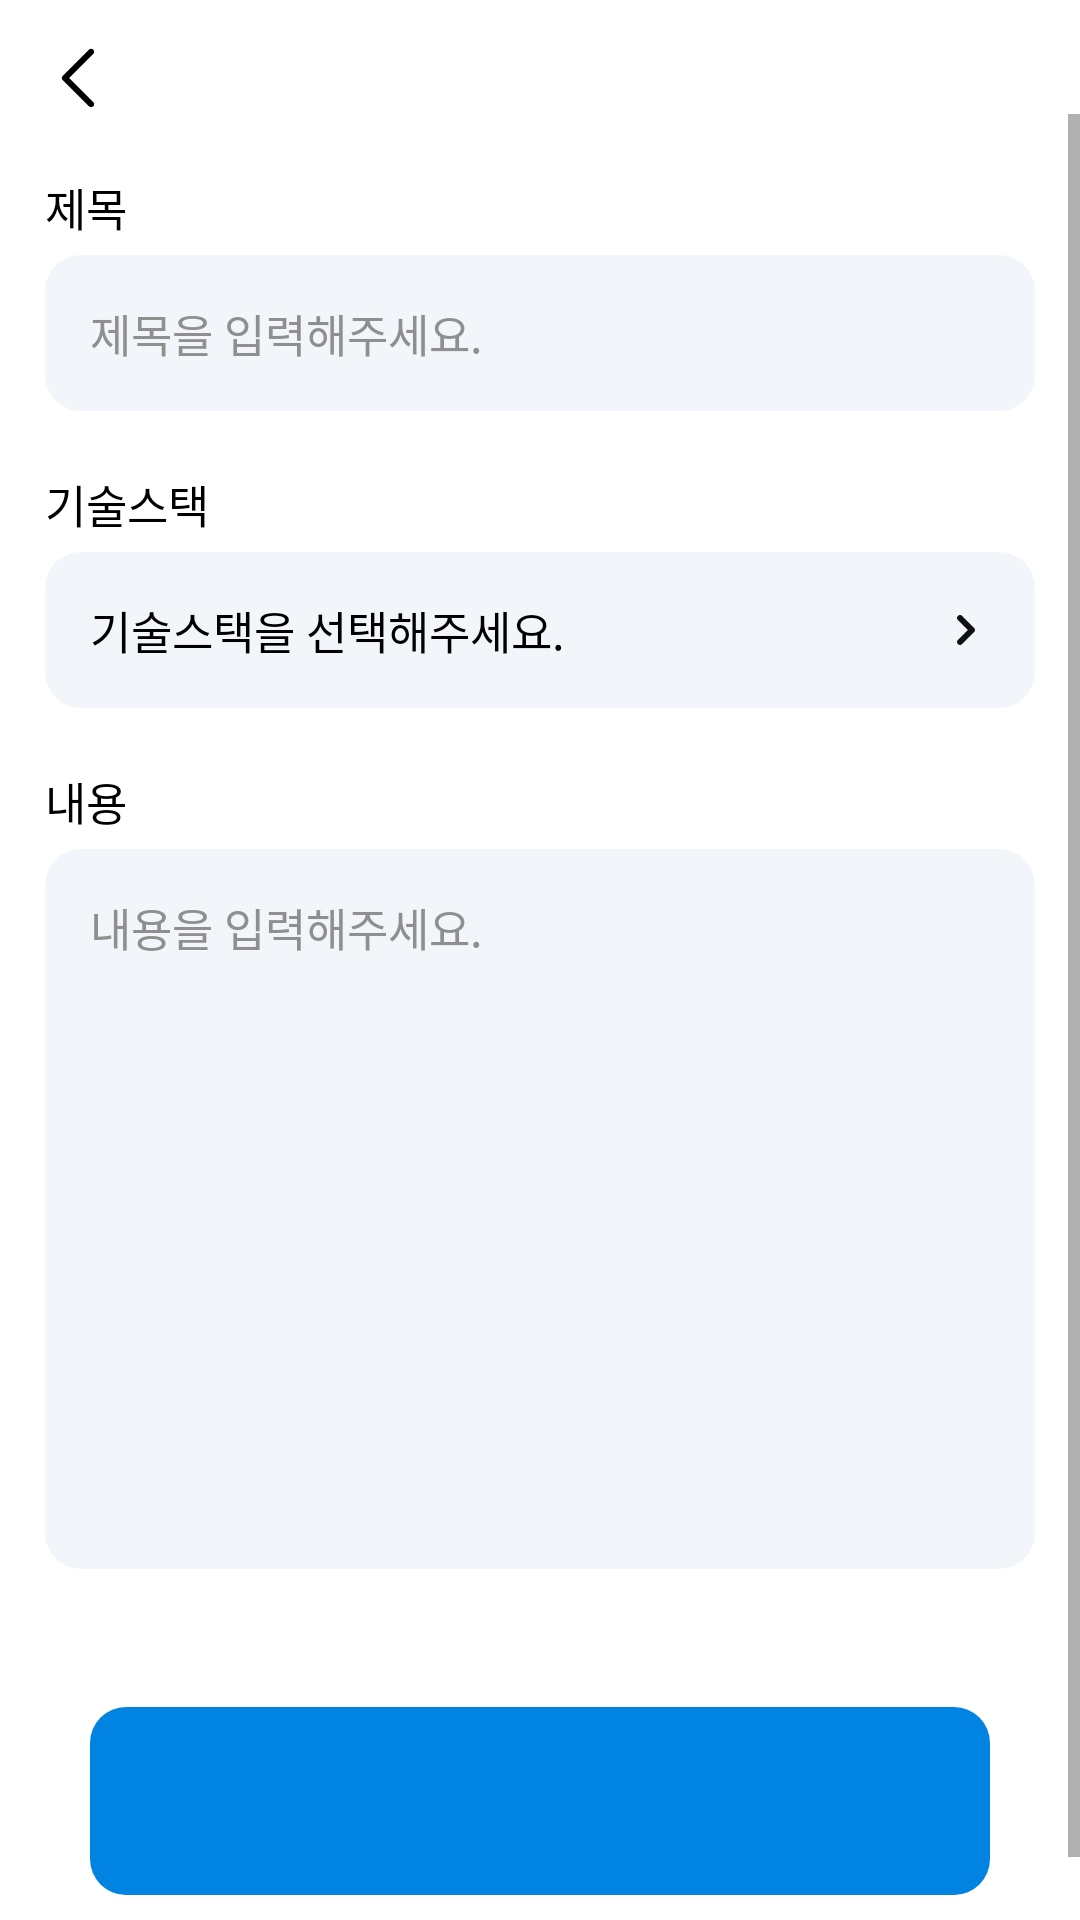

Named icons in this screenshot (1080px x 1920px) and their bounding boxes, (x1,y1,x2,y2):
back: (62,48,94,108)
